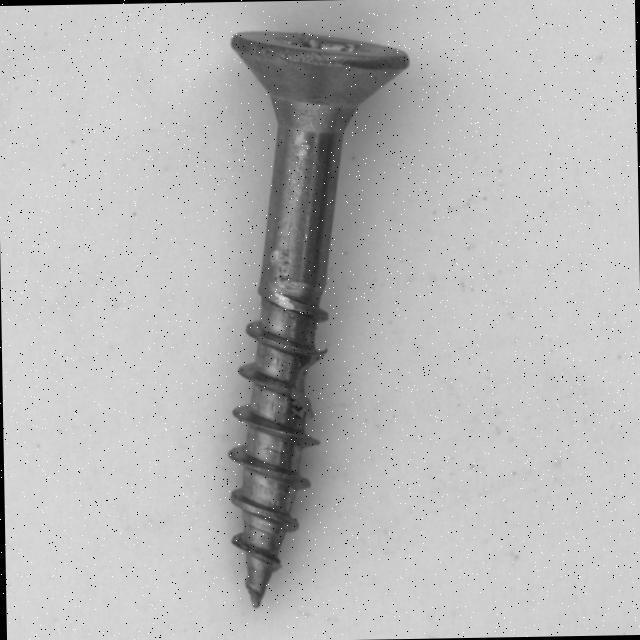thread_side: (284, 348, 332, 452)
